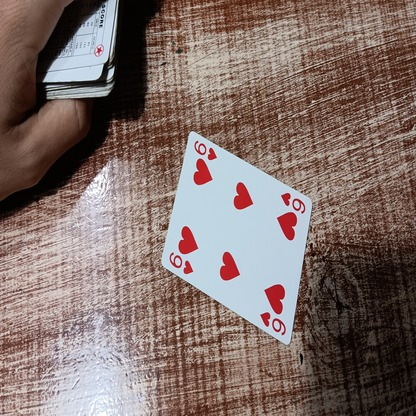6h: (166, 247, 194, 275), (259, 307, 286, 335), (191, 135, 217, 161), (282, 188, 306, 213)
